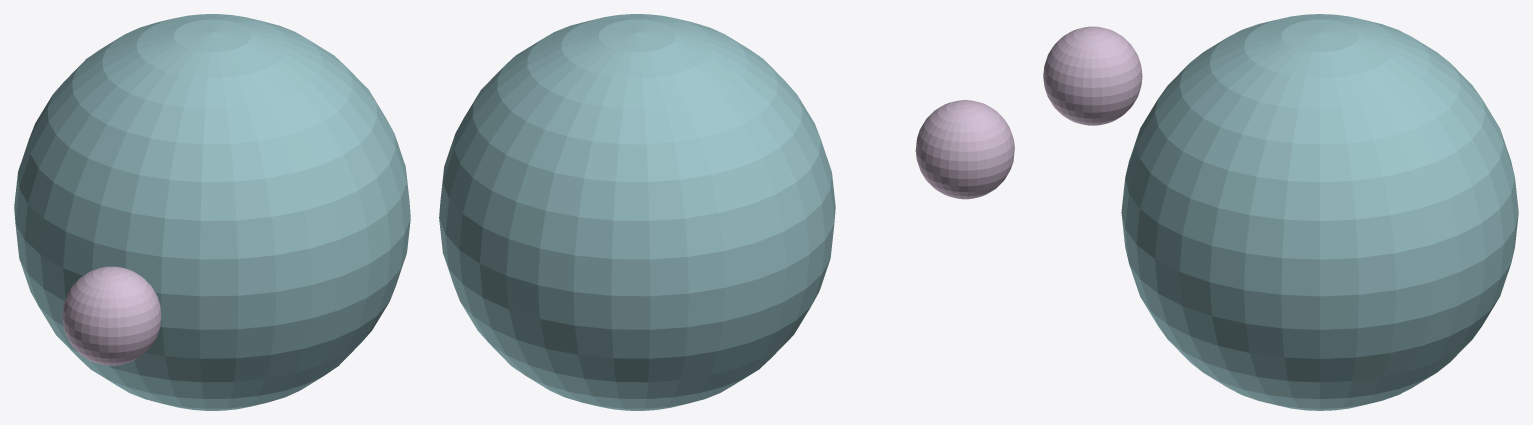
3 views of the same model, side by side, from view 1: azimuth 30°, elevation 25°; view 2: azimuth 150°, elevation 25°; view 3: azimuth 270°, elevation 25° (orthographic).
Visible parts, largest first — view 1: Sphere.007, Sphere; view 2: Sphere.007, Sphere; view 3: Sphere.007, Sphere.
Part boxes in pixels (box(x1,y1,x2,y2)): Sphere.007: box(14, 14, 410, 410); Sphere: box(62, 266, 161, 365); Sphere.007: box(439, 14, 835, 410); Sphere: box(915, 100, 1014, 199); Sphere.007: box(1121, 14, 1518, 410); Sphere: box(1043, 26, 1142, 125).
Size of the model in its own units: 200 by 160 by 192.
